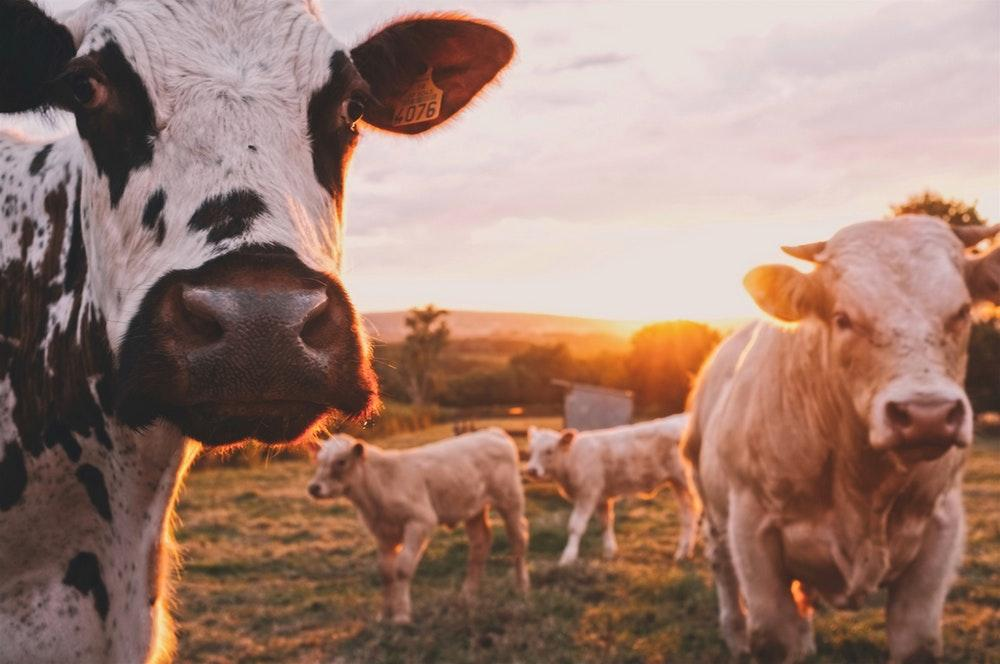muzzles: (123, 272, 391, 457)
